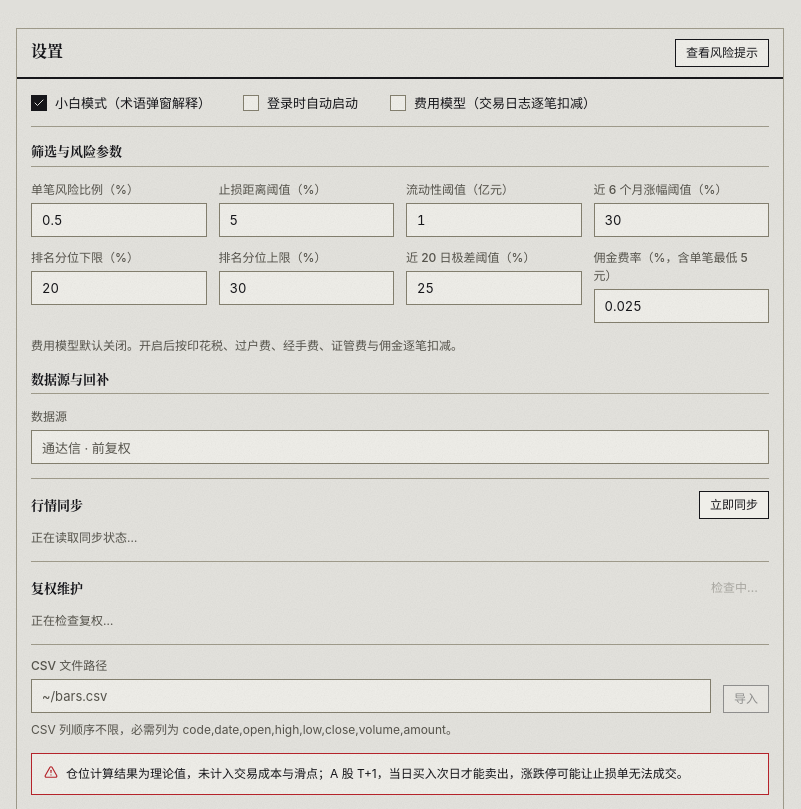
设置页 › CSV 导入成功后显示写入与跳过行数
Type "/tmp/bars.csv" into the field labelled "CSV 文件路径". click: (371, 696)
box: left=31, top=679, right=711, bottom=713
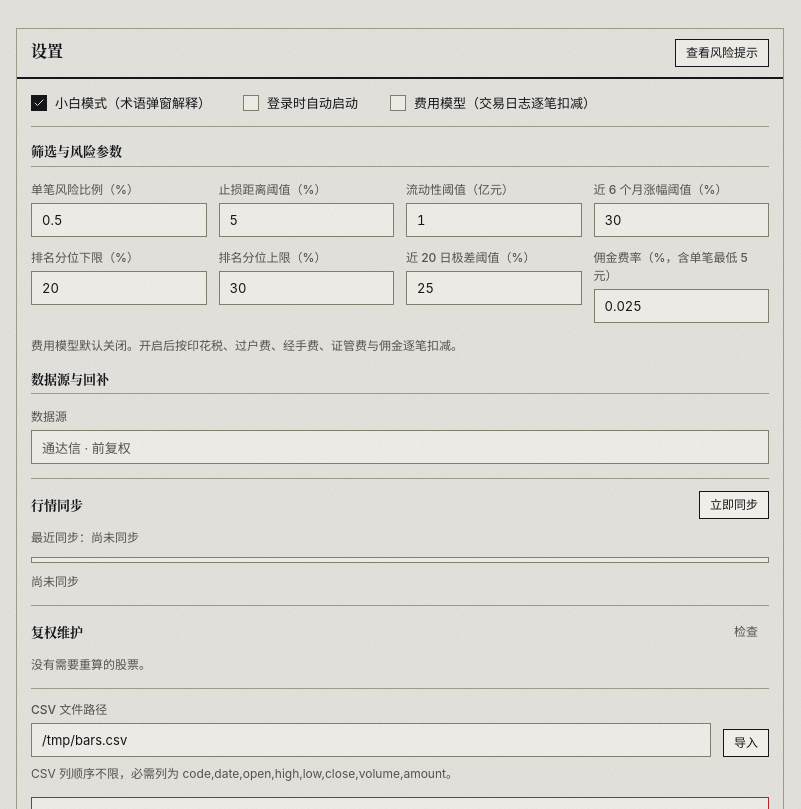
Click the button "导入". click: (746, 743)
box: left=723, top=729, right=769, bottom=757
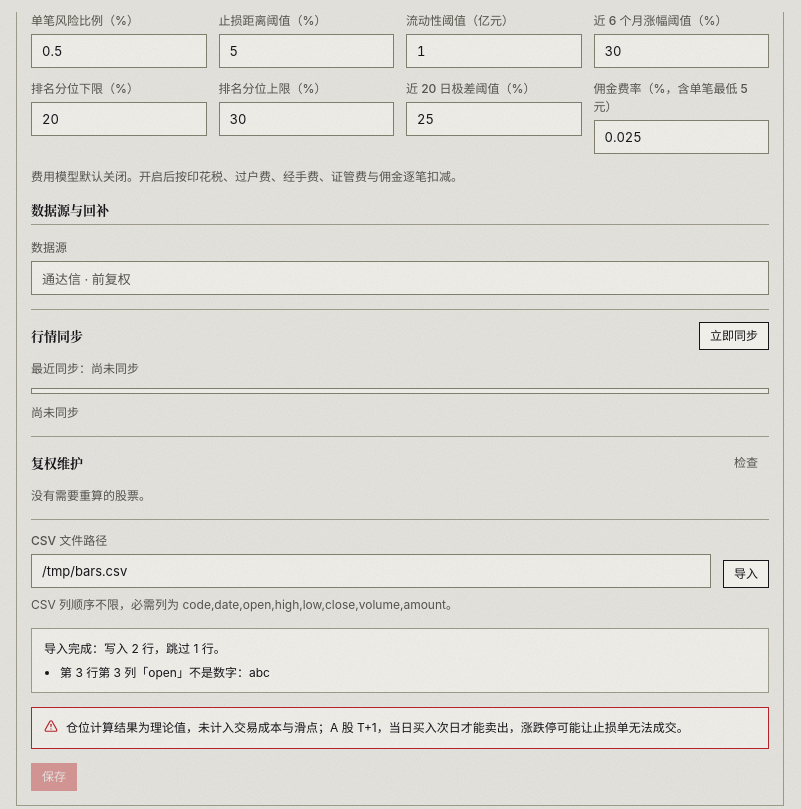
Expected: the text "导入完成：写入 2 行，跳过 1 行。" is shown, left=44, top=641, right=226, bottom=656
Expected: the list item "第 3 行第 3 列「open」不是数字：abc" is shown, left=60, top=665, right=270, bottom=680
